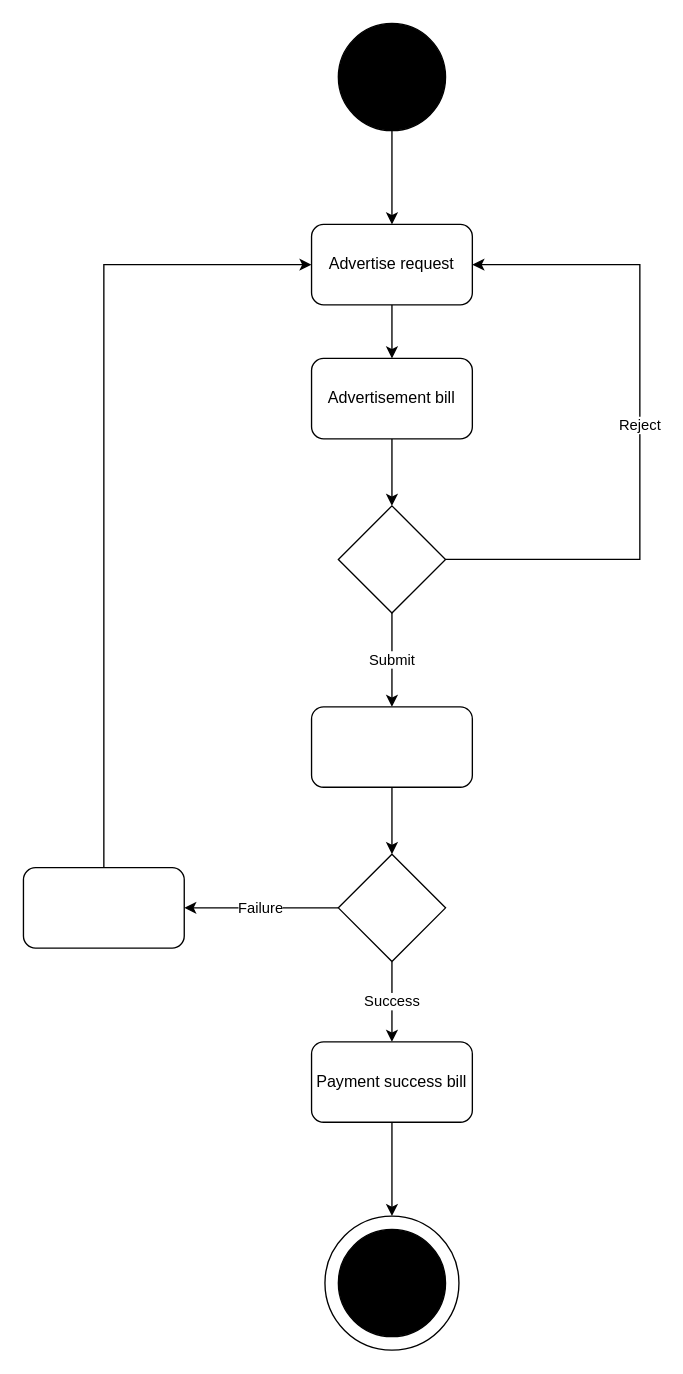
The diagram is 683 pixels wide and 1374 high, and some of its shapes have lost their labels. Each missing label, with the centre of its shape:
Bank Payment panel: the point at 391,746
Payment failure bill: the point at 103,907
